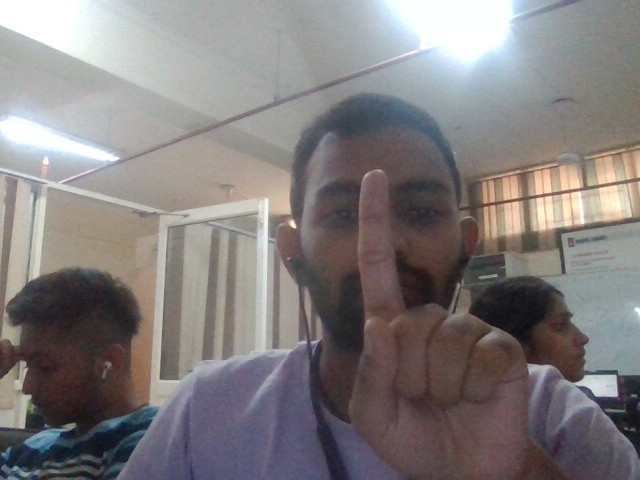Present: (348, 168, 536, 480)
